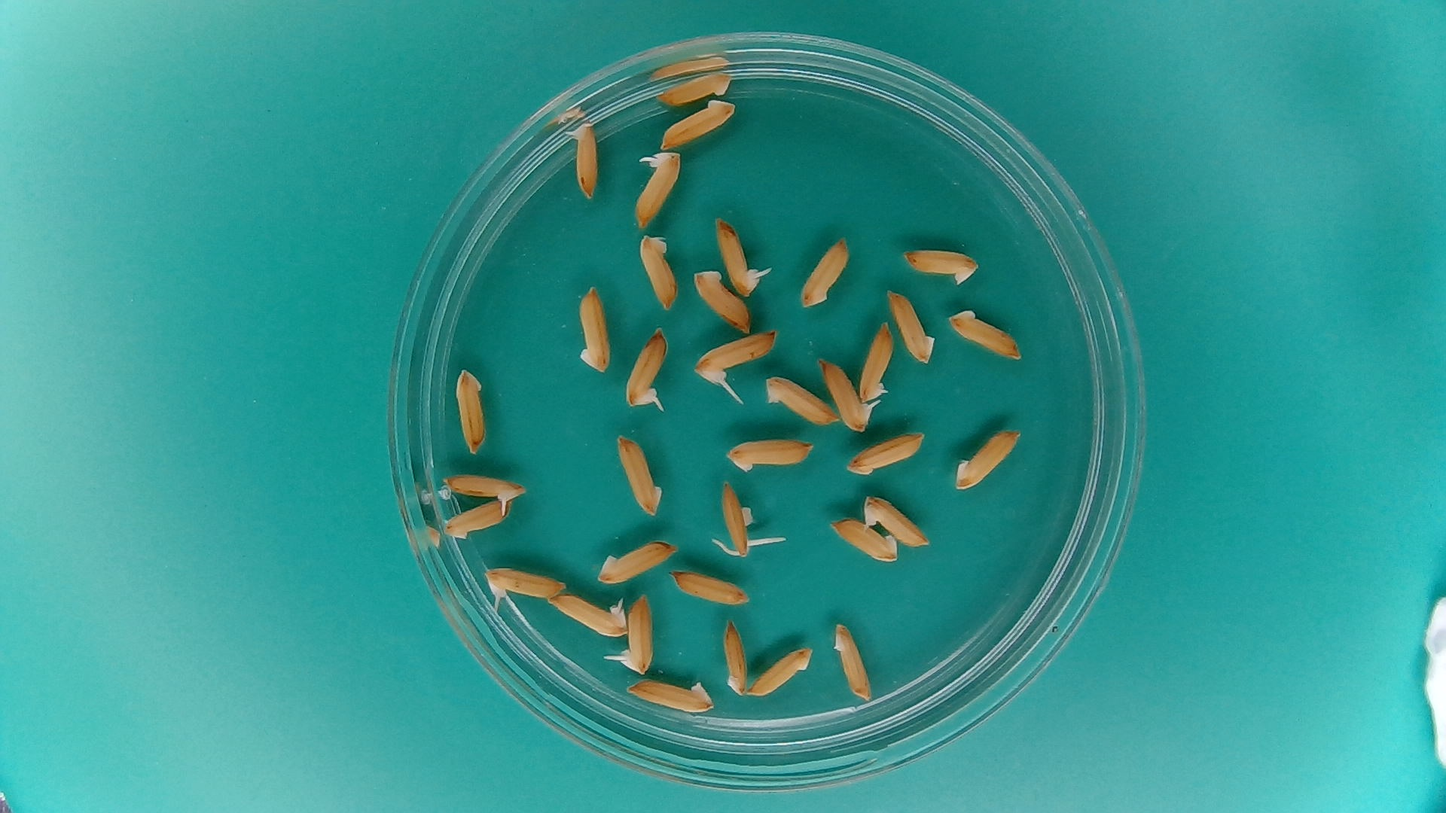no: (953, 425, 1024, 494), (617, 433, 667, 519), (947, 306, 1025, 361), (594, 537, 682, 584), (845, 428, 928, 477), (797, 233, 850, 309), (657, 99, 738, 148), (767, 378, 842, 430), (724, 432, 818, 473), (573, 282, 613, 377), (831, 619, 875, 704), (691, 273, 752, 334), (636, 232, 680, 312), (749, 647, 814, 700), (667, 566, 751, 607), (886, 292, 934, 363), (899, 245, 980, 287), (455, 364, 490, 457), (857, 318, 895, 403), (656, 69, 735, 107), (627, 679, 715, 713), (830, 518, 898, 562), (441, 501, 508, 540), (719, 614, 750, 696)
yes: (693, 329, 775, 380), (633, 148, 685, 227), (545, 590, 629, 638), (713, 215, 762, 297), (863, 495, 931, 548), (624, 327, 668, 408), (824, 361, 874, 432), (716, 476, 755, 560), (438, 473, 529, 507), (619, 591, 657, 671), (485, 568, 566, 602), (566, 123, 598, 199)
